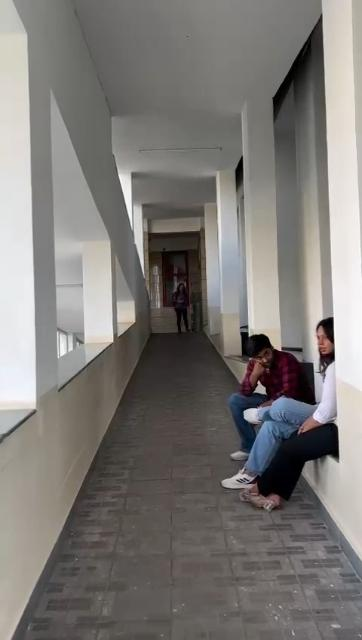floor: (12, 328, 361, 638)
moving-obj: (221, 322, 362, 512)
wall: (0, 314, 152, 640), (10, 2, 60, 404), (336, 2, 362, 516), (241, 105, 281, 329), (85, 73, 110, 345), (214, 165, 240, 343)
